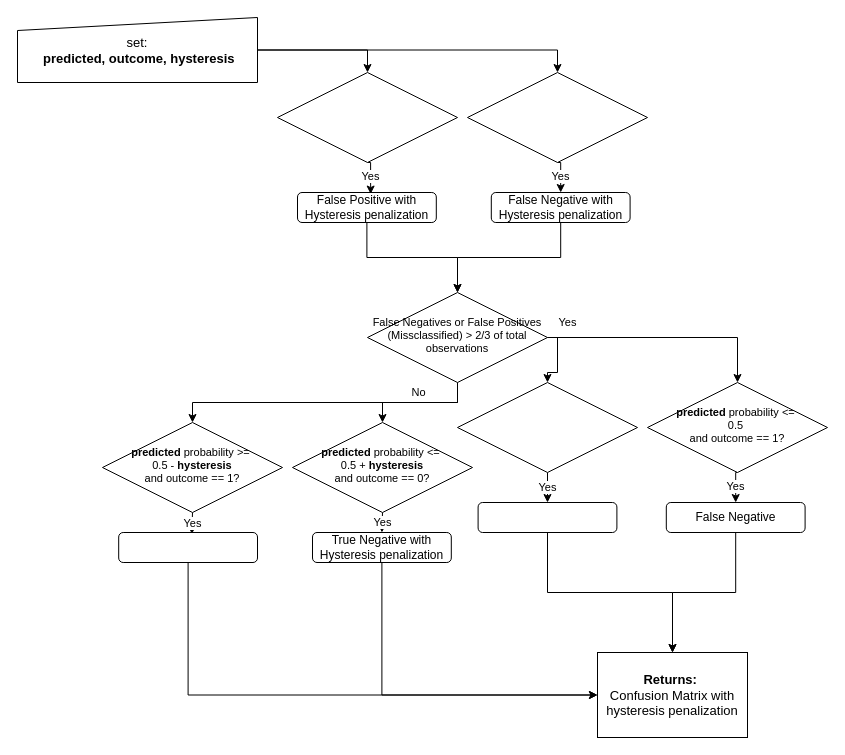
Image size: 845x755. Some labels were removed from this diagram. The centre of each missing label's shape, as x and y in pixels:
False Positive: point 547,517
predicted probability <= 0.5 + hysteresis and outcome == 1?: point 557,117
predicted probability >= 0.5 - hysteresis and outcome == 0?: point 367,117
predicted probability >= 0.5 and outcome == 0?: point 547,427
True Positive with Hysteresis penalization: point 188,547
